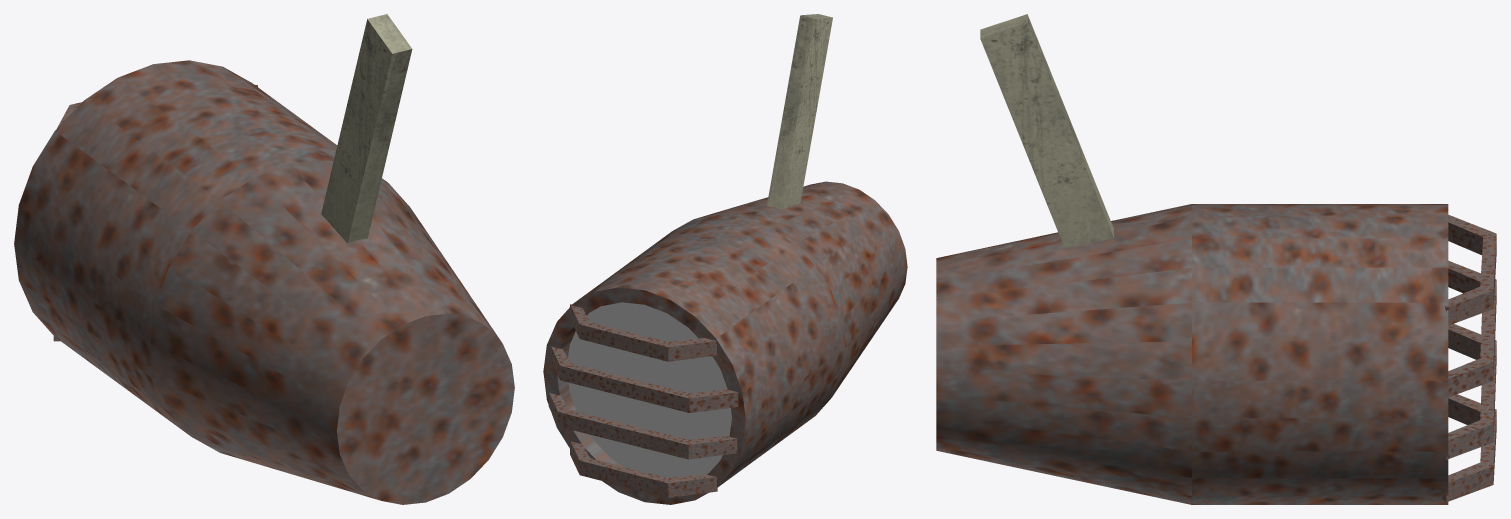
File: SM_Lamp_Projo_01.fbx
3 views of the same model, side by side, from view 1: azimuth 30°, elevation 25°; view 2: azimuth 150°, elevation 25°; view 3: azimuth 270°, elevation 25° (orthographic). The views are drawn at different scales.
Parts seen in each view (by area): view 1: SM_Lamp_Projo_01; view 2: SM_Lamp_Projo_01; view 3: SM_Lamp_Projo_01.
Boxes of the visible parts, bbox=[...] form: SM_Lamp_Projo_01: bbox=[14, 14, 514, 504]; SM_Lamp_Projo_01: bbox=[543, 14, 907, 504]; SM_Lamp_Projo_01: bbox=[936, 14, 1496, 504].
Bounding box in the file's own units: 36.9 × 63.69 × 68.42.
